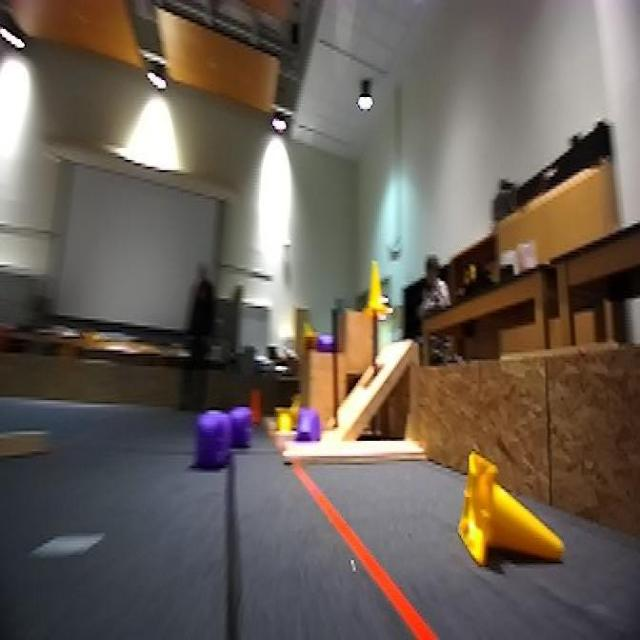frc_cone: (458, 448, 570, 562), (364, 254, 388, 315), (272, 408, 294, 431)
frc_cube: (194, 416, 233, 472), (230, 407, 253, 449), (293, 403, 317, 441), (319, 330, 336, 354)
